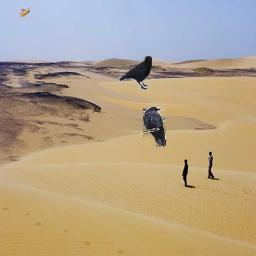Crow: (118, 56, 152, 90), (143, 107, 166, 147)
Sparrow: (19, 6, 31, 17)
